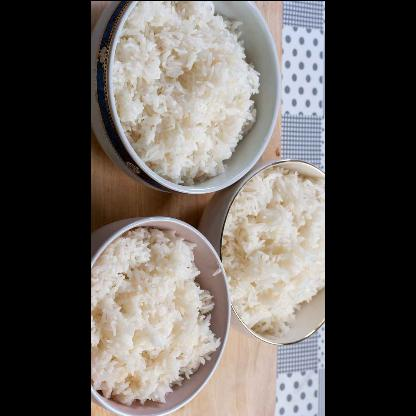white rice: (114, 1, 260, 185), (92, 226, 220, 404), (223, 165, 325, 335)
